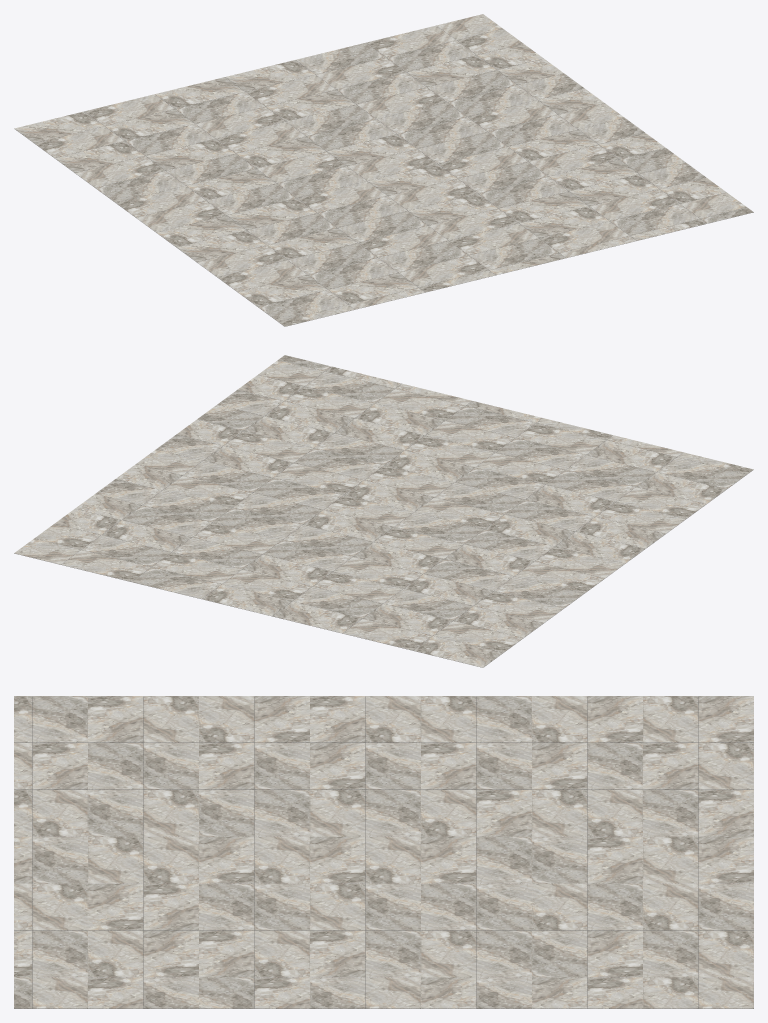
Rendered from hard-stone-grey-60x120.glb.
The picture shows the model from 3 angles, top to bottom: view 1: azimuth 30°, elevation 25°; view 2: azimuth 150°, elevation 25°; view 3: azimuth 270°, elevation 25°; orthographic projection. The views are drawn at different scales.
Visible parts, largest first — view 1: Hard Stone Grey; view 2: Hard Stone Grey; view 3: Hard Stone Grey.
Boxes of the visible parts, left/top/right/bottom form: Hard Stone Grey: left=14, top=14, right=753, bottom=326; Hard Stone Grey: left=14, top=355, right=753, bottom=667; Hard Stone Grey: left=14, top=696, right=753, bottom=1008.
Size of the model in its own units: 8 by 0.003 by 8.
2 materials, 1 textured.
